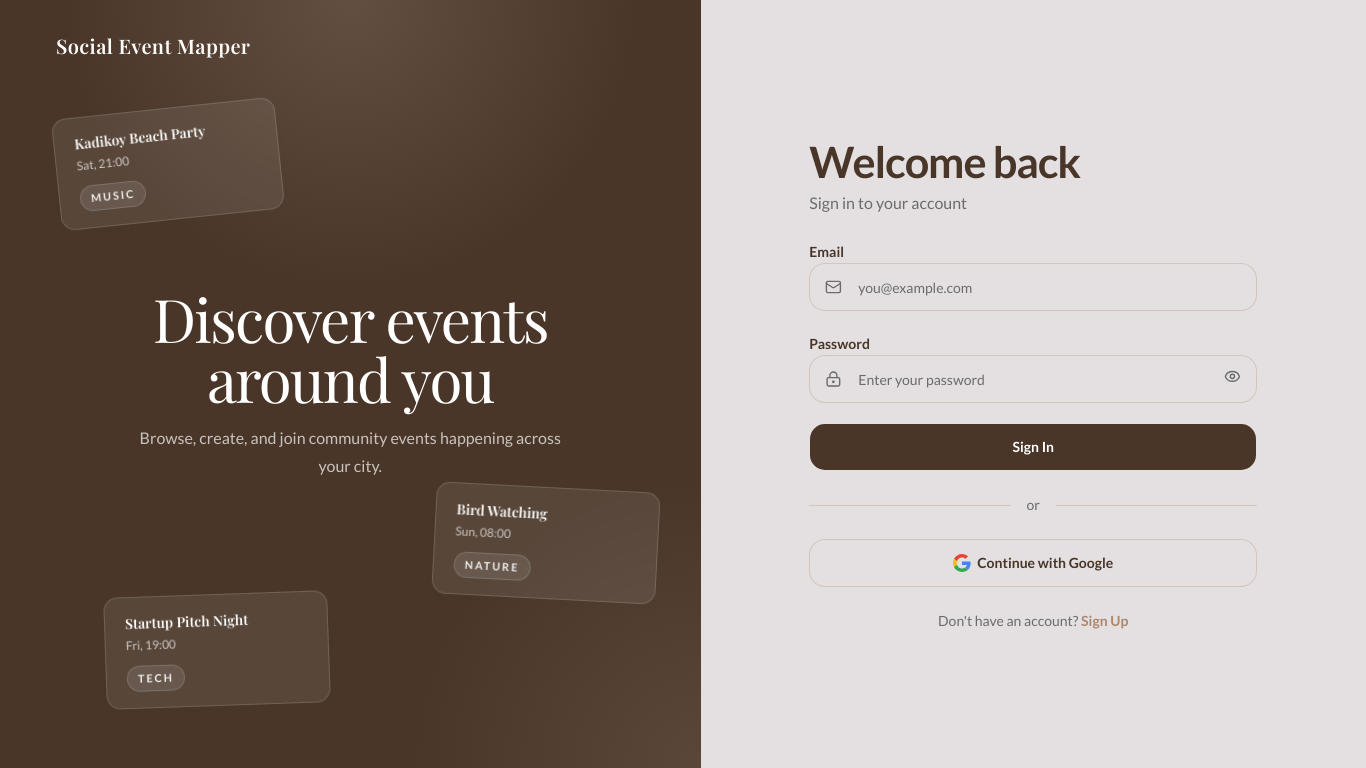
Test: LoginPage › renders backend login errors
Step 1. Type "alice@example.com" into the field labelled "Email" → [1033, 287], box [809, 263, 1257, 311]
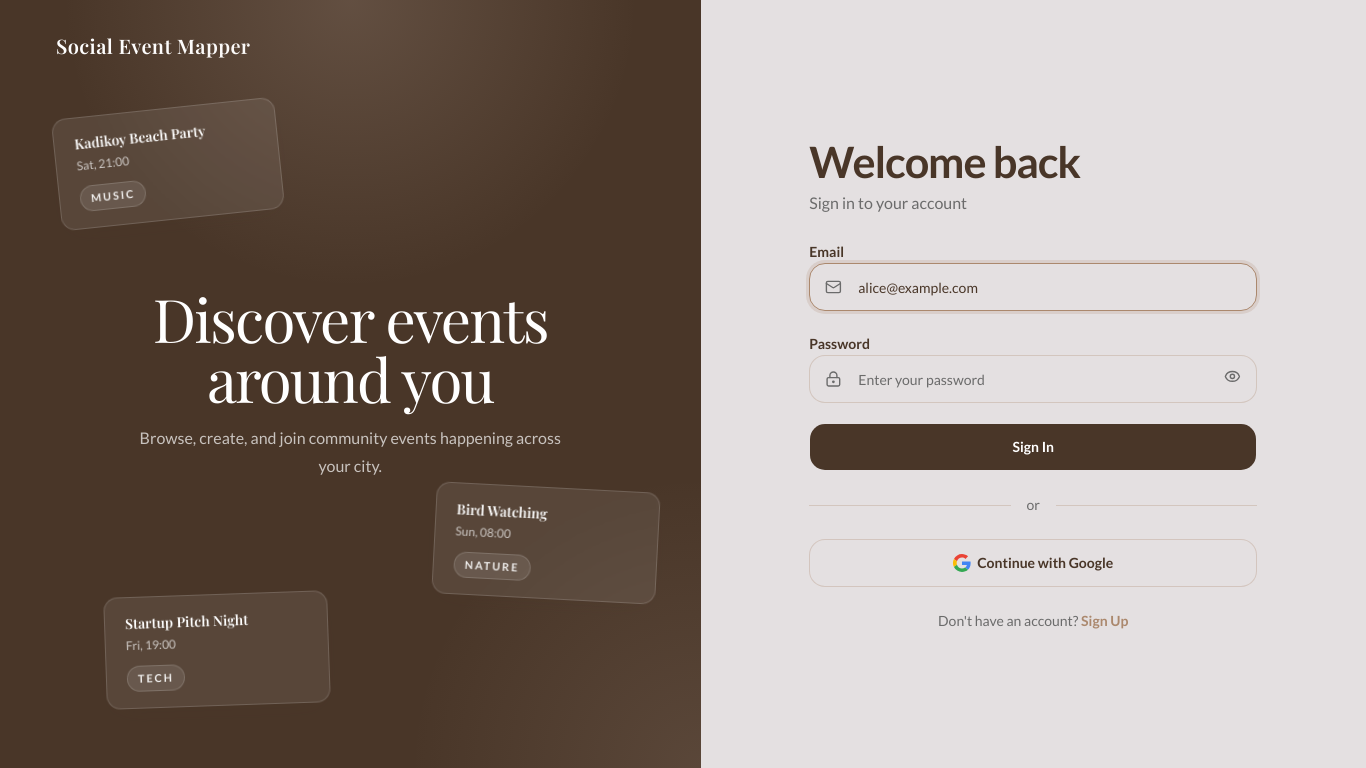
Step 2. Type "wrong-password" into the password field labelled "Password" → [1033, 379], box [809, 355, 1257, 403]
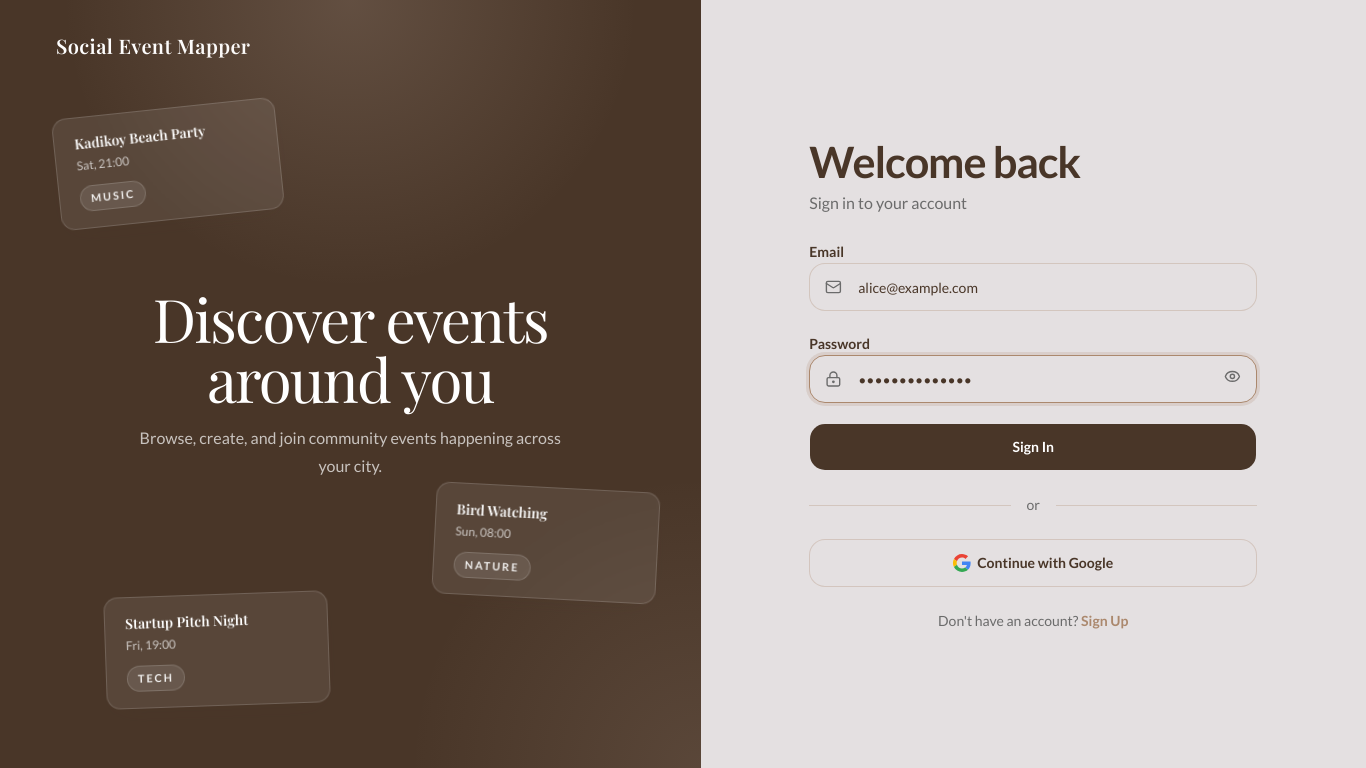
Step 3. Click the button "Sign In" → [1033, 447], box [809, 423, 1257, 471]
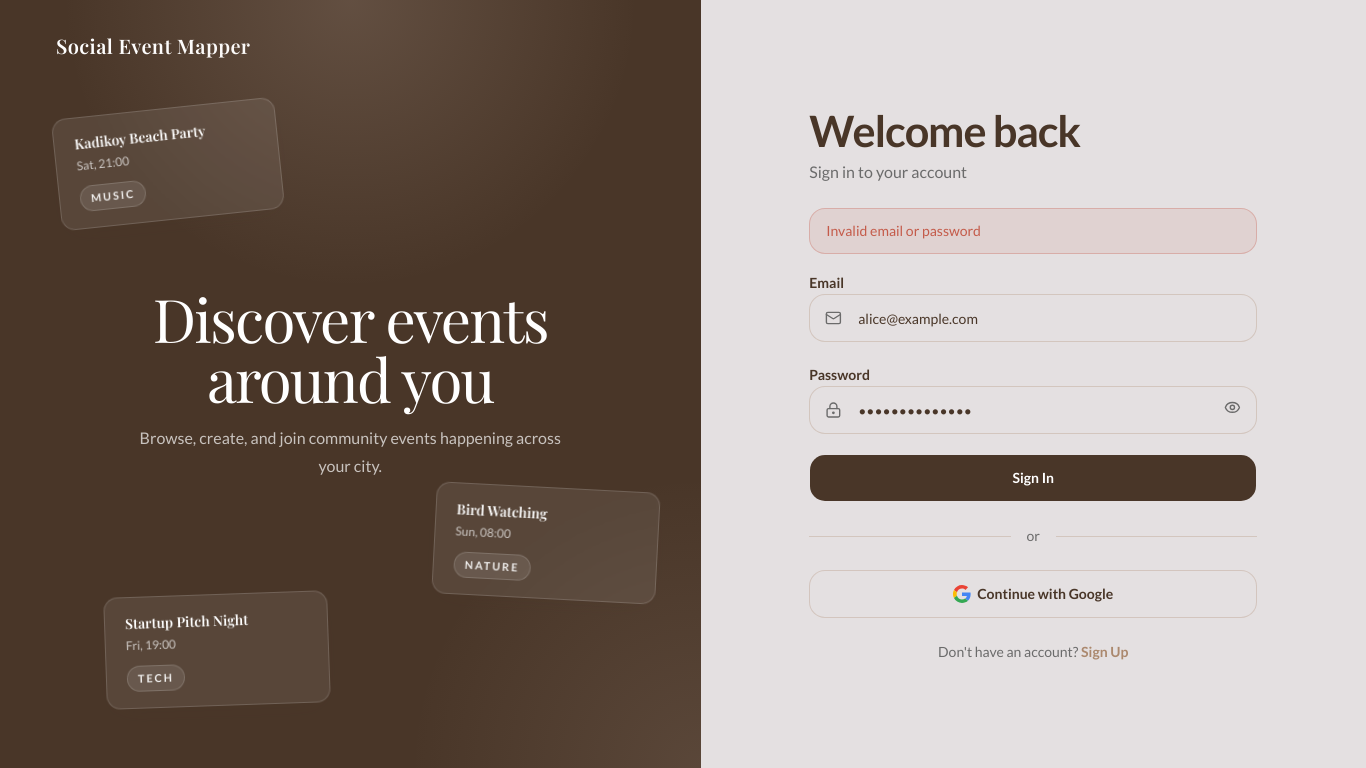
expect the text "Invalid email or password" is shown: met, box [809, 208, 1257, 254]
